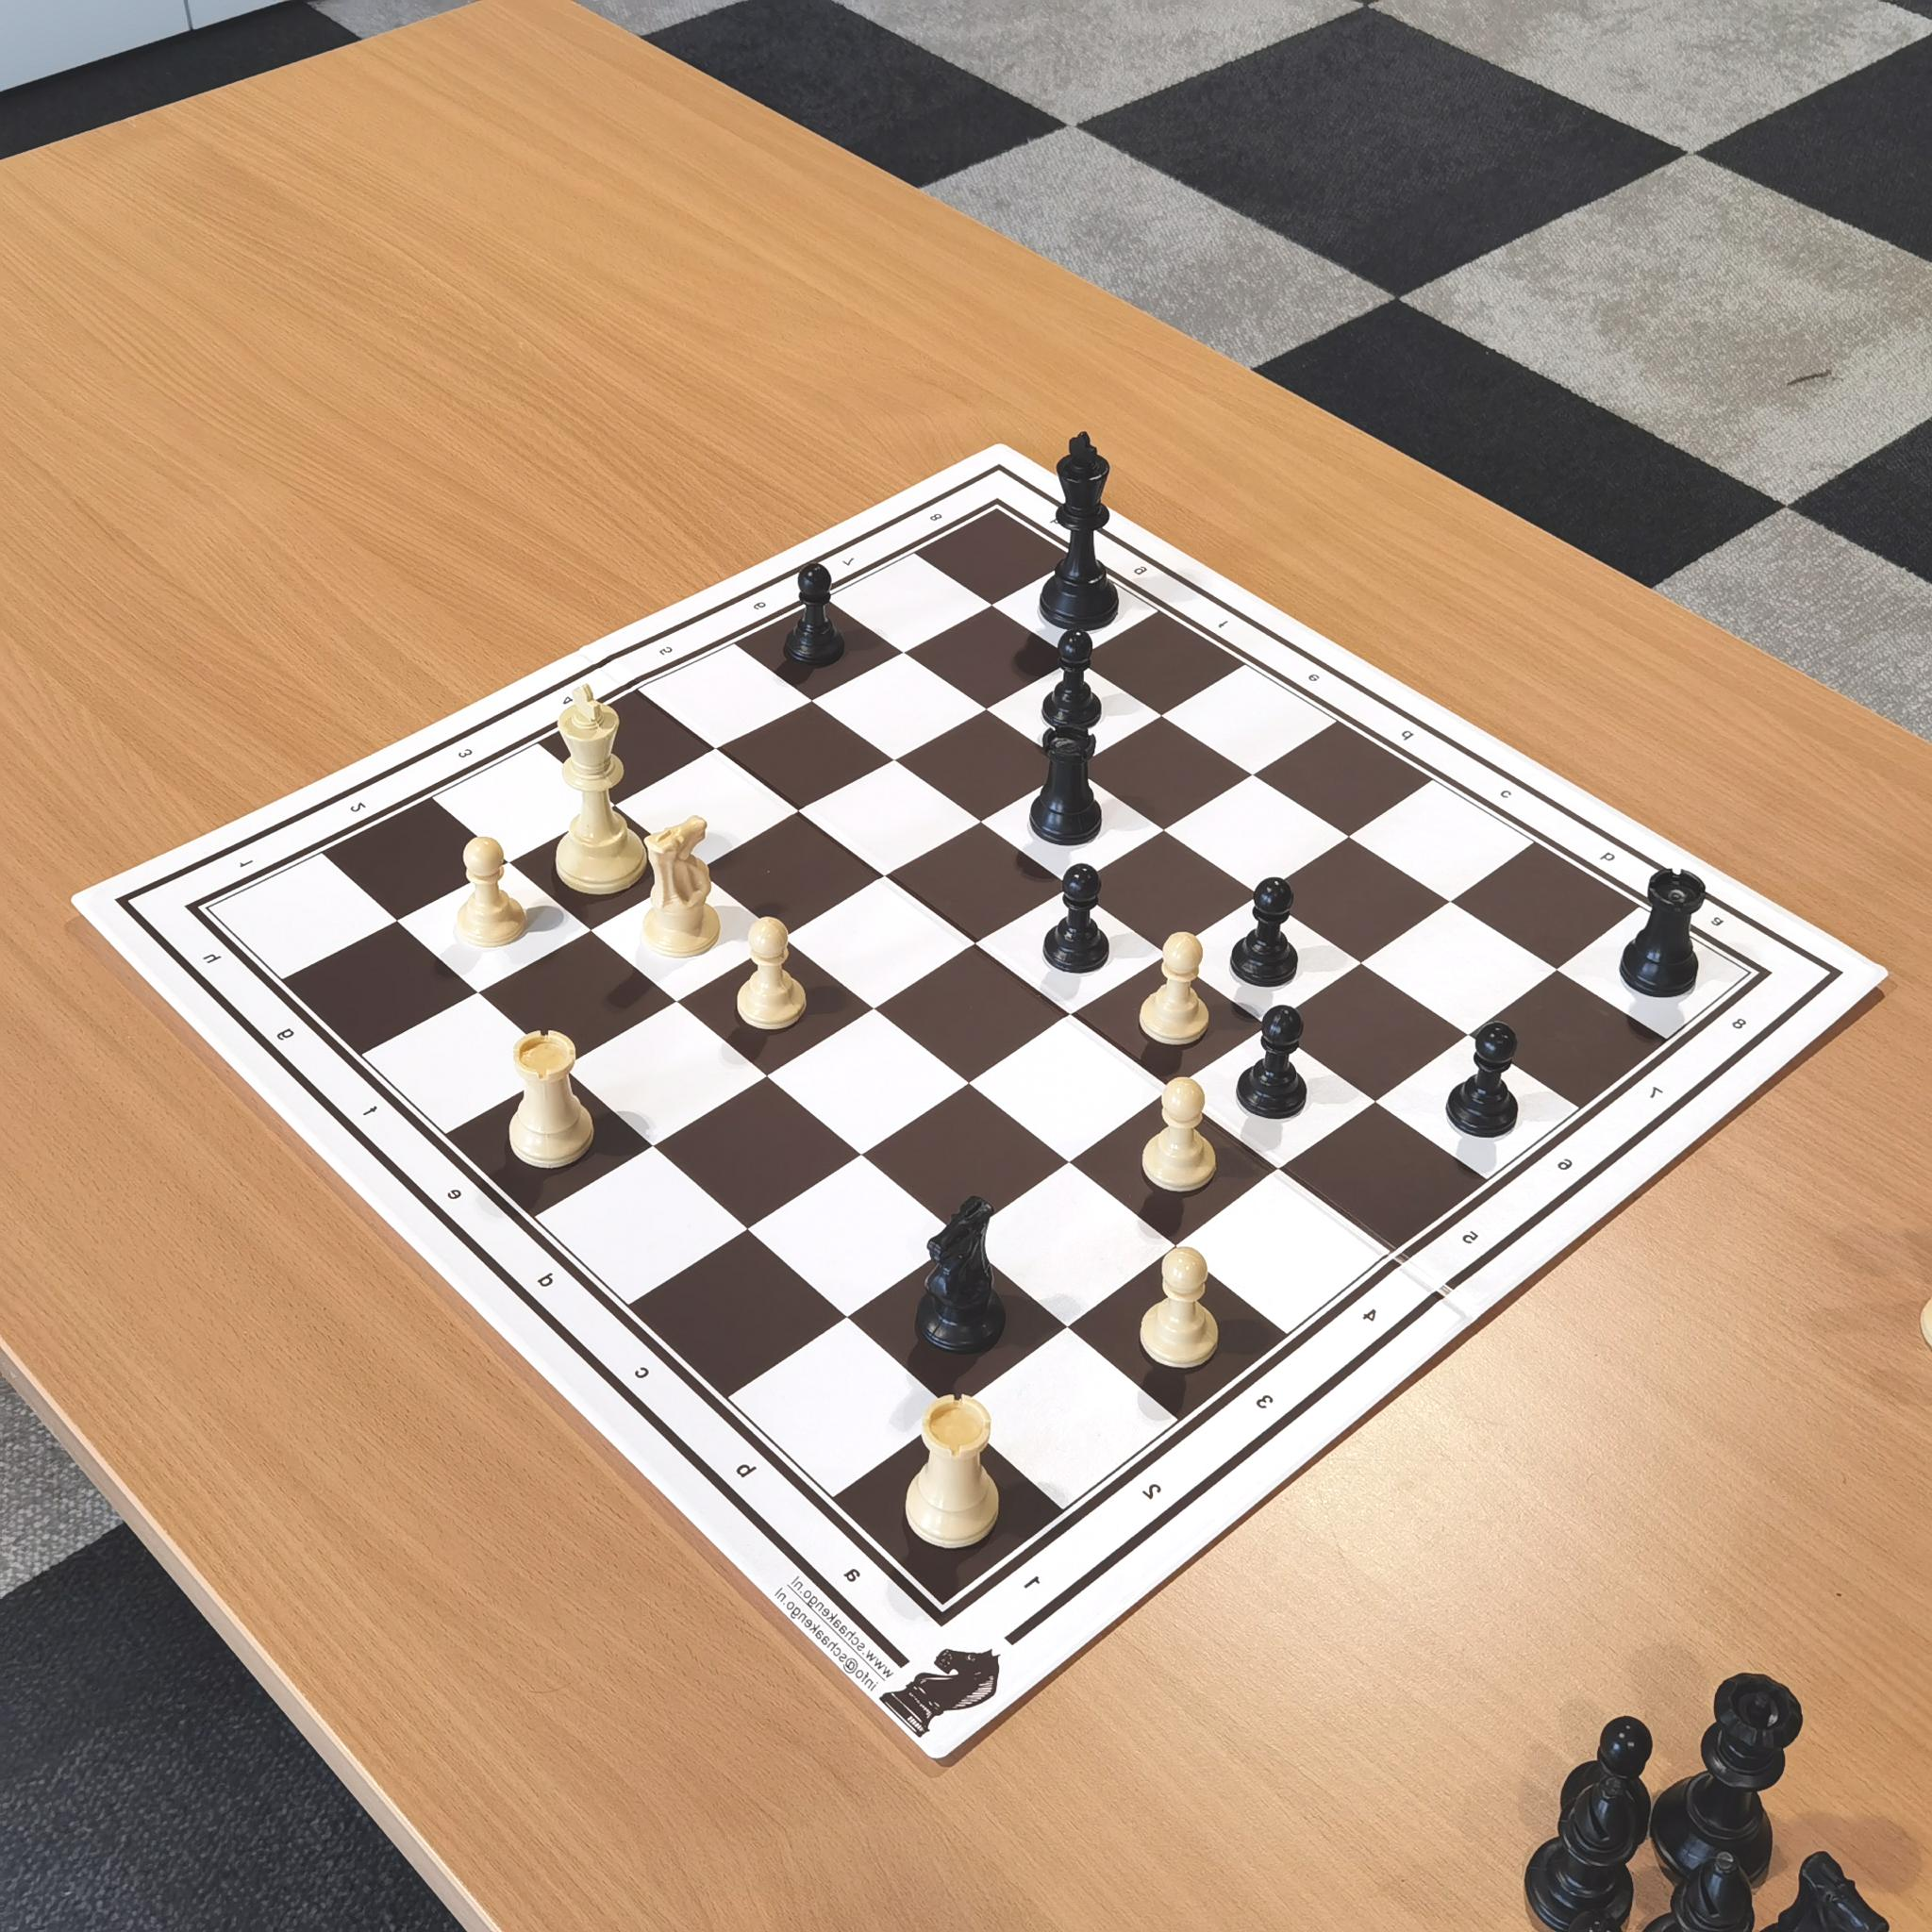corners: (911, 1587, 968, 1651), (1718, 955, 1782, 1000), (173, 885, 237, 929), (971, 497, 1014, 534)
eight: (1714, 1003, 1755, 1053), (913, 497, 955, 538)
one: (1007, 1555, 1062, 1615), (221, 844, 262, 885)
